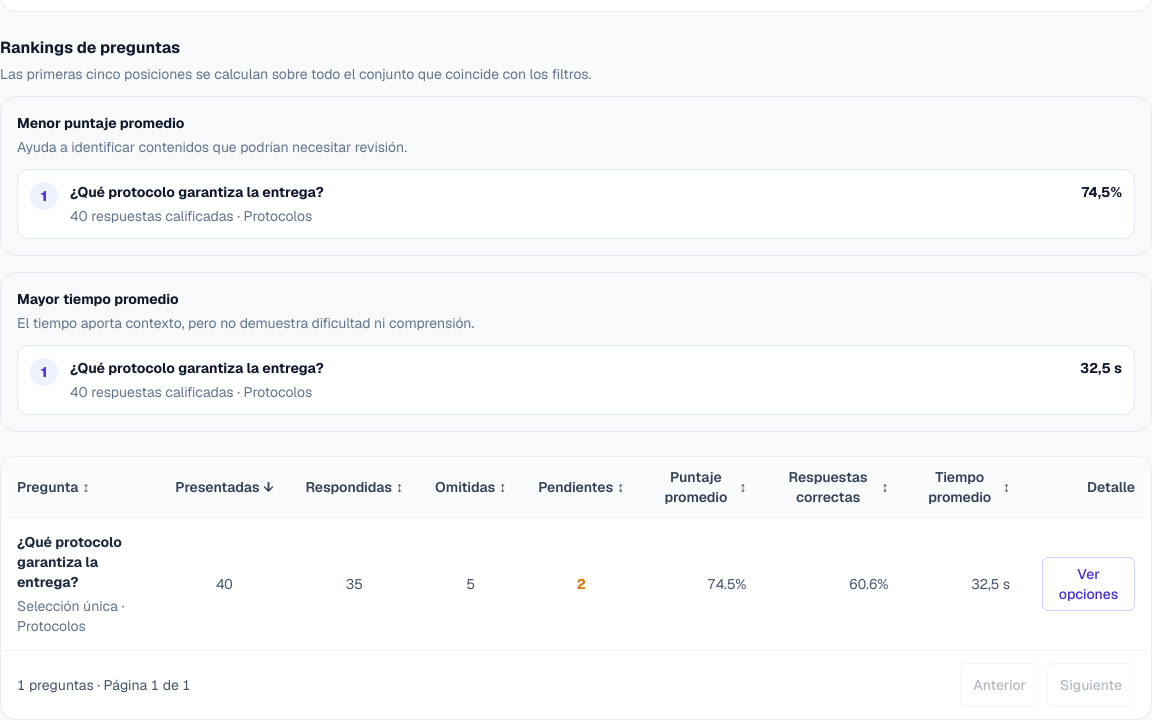
it: reportes docentes › compara el contenido agregado aunque el grupo de origen no tenga calificaciones
(page scrolled)
Click the button "Ver opciones" at point(1088, 584), box top-left (1042, 556), bottom-right (1135, 610)
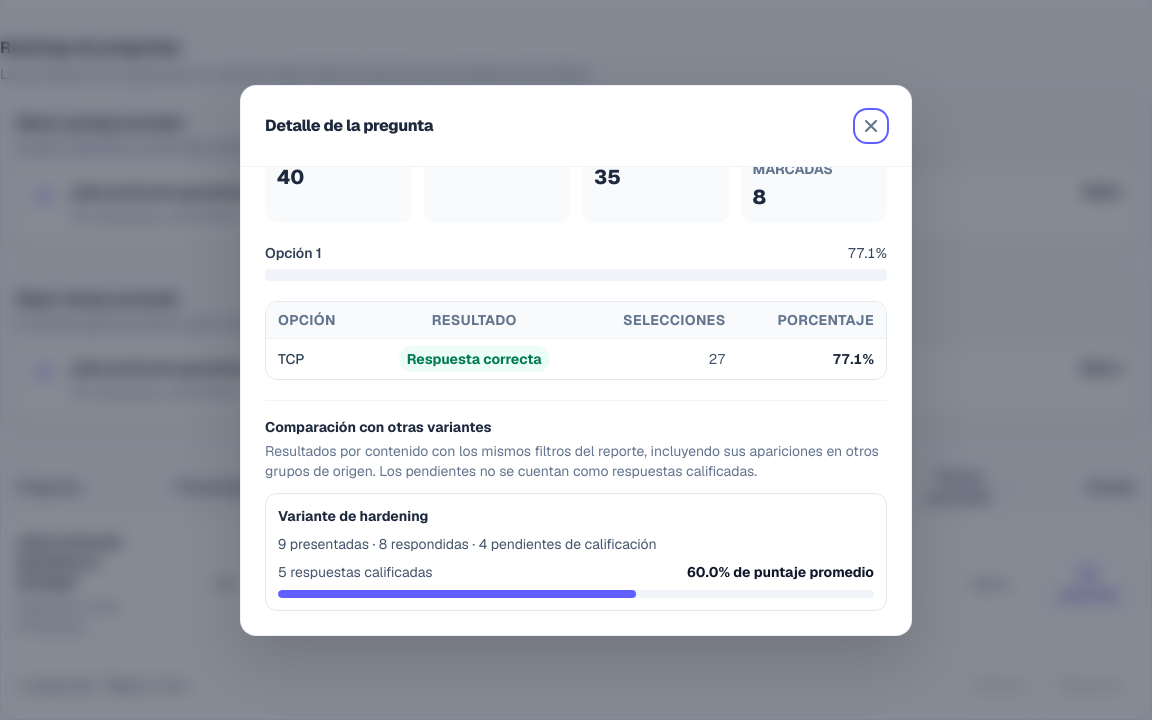
Check: the text "60.0% de puntaje promedio" is shown, box top-left (687, 562), bottom-right (874, 582)
Check: the text "5 respuestas calificadas" is shown, box top-left (278, 562), bottom-right (433, 582)
Check: the text "9 presentadas · 8 respondidas · 4 pendientes de calificación" is shown, box top-left (278, 534), bottom-right (657, 552)
